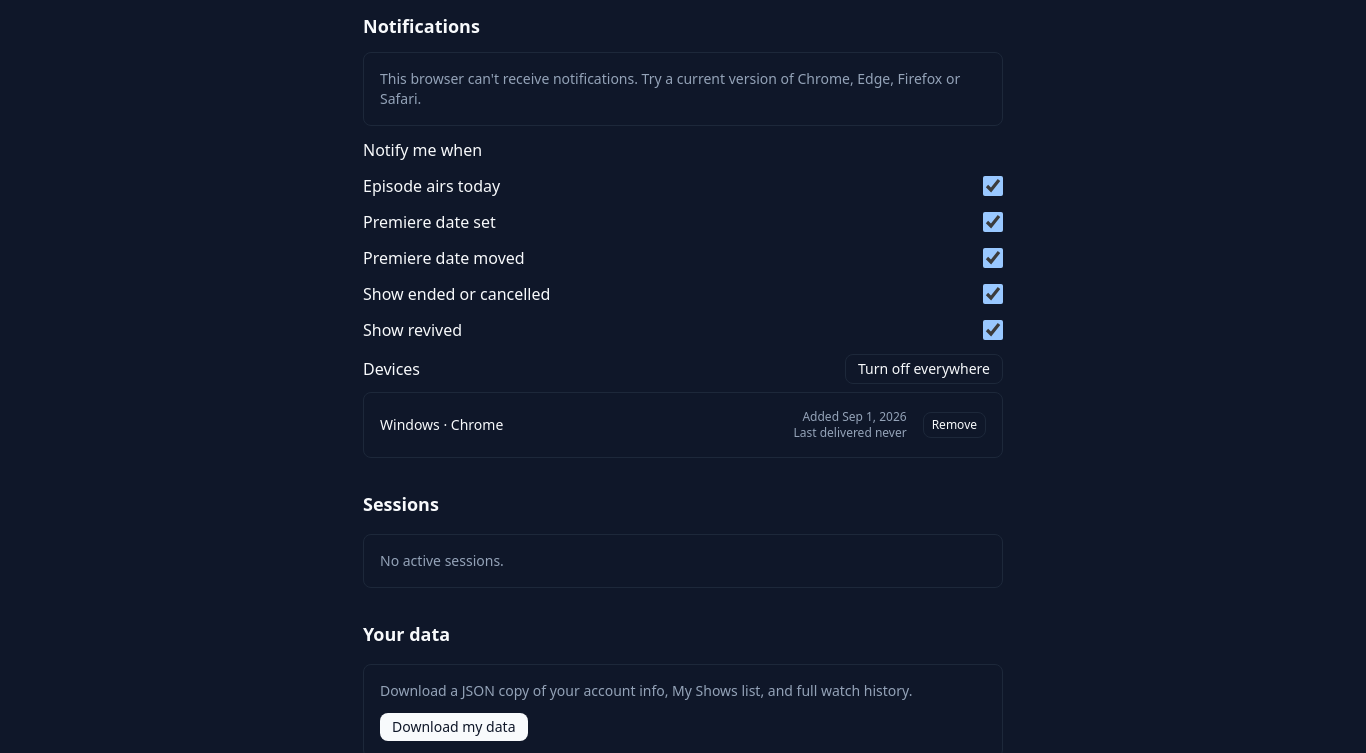
Test: Device list › does nothing when the confirmation is cancelled
(page scrolled)
Click the button "Turn off everywhere" at (924, 369), box left=845, top=354, right=1003, bottom=384
(page scrolled)
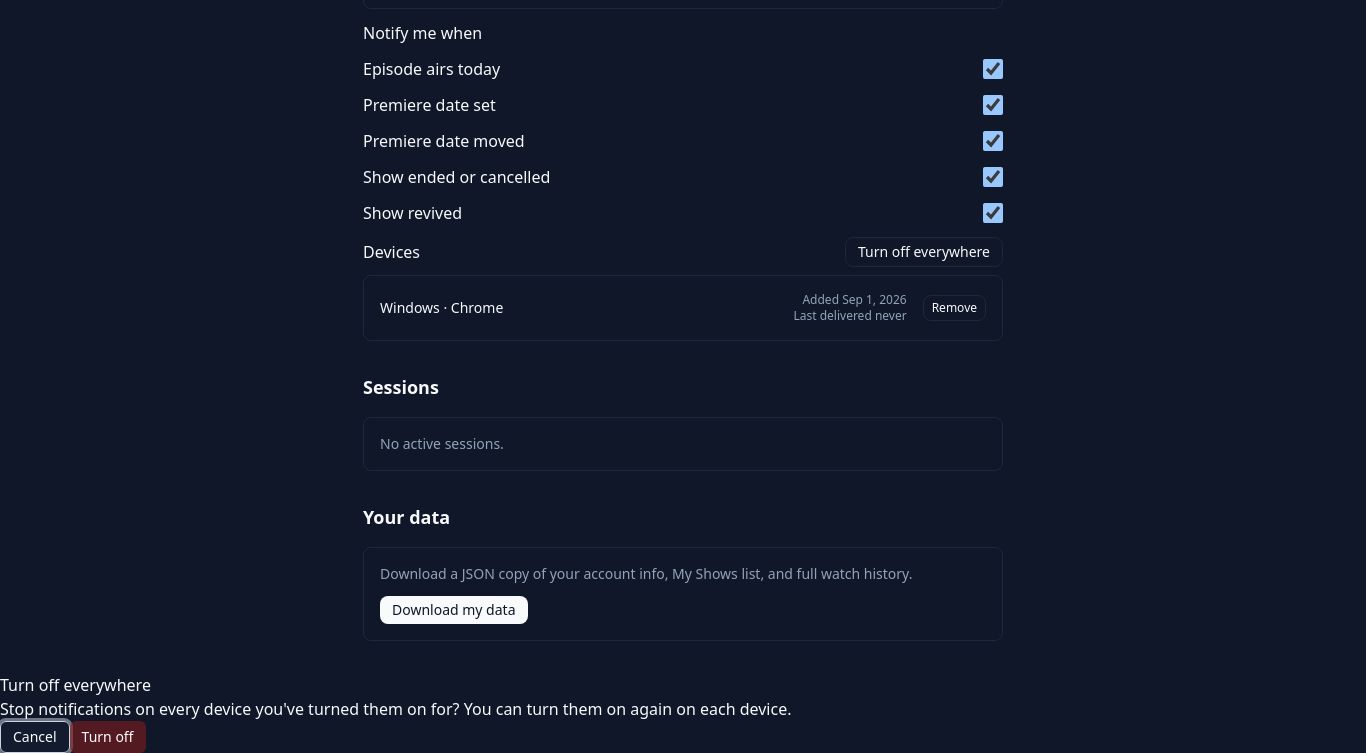
Click the button "Cancel" at (35, 737), box left=0, top=721, right=70, bottom=752
(page scrolled)
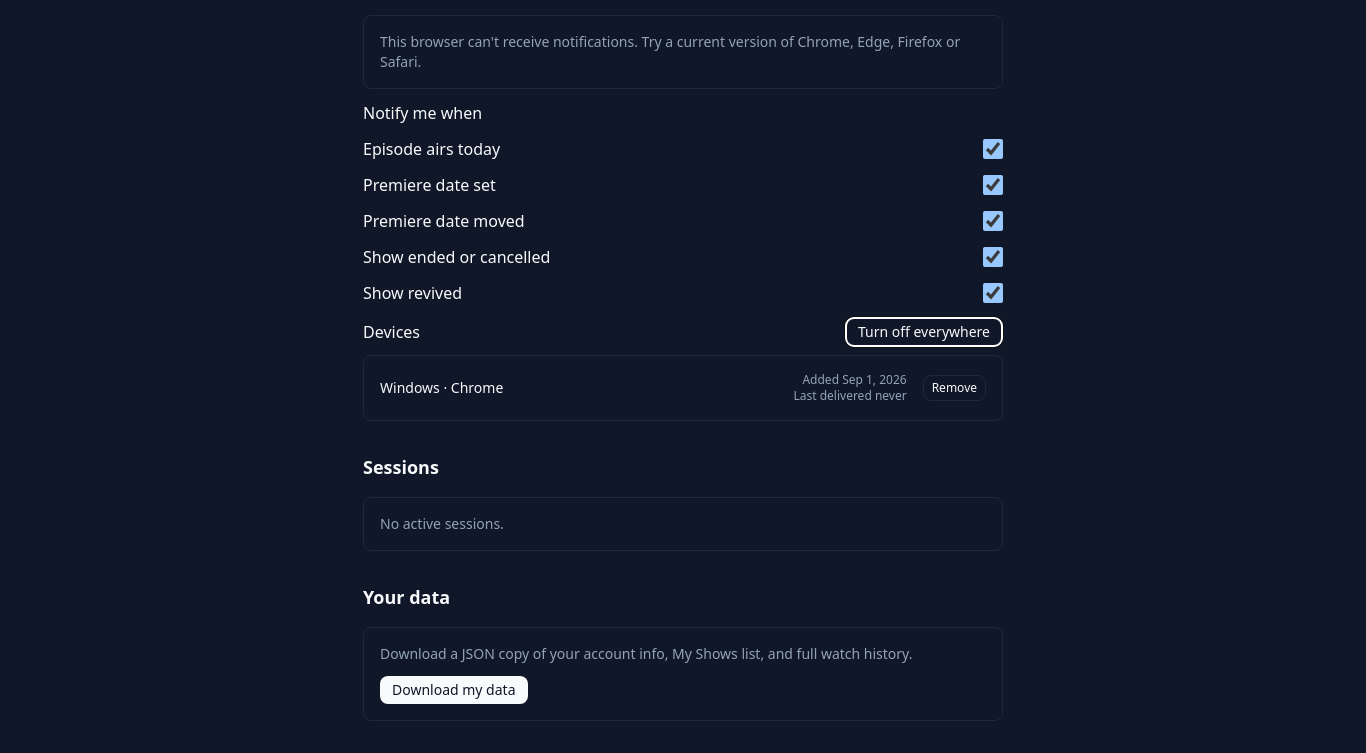
Expected: the text "Windows · Chrome" is shown, left=380, top=378, right=503, bottom=397
Result: the dialog is gone
